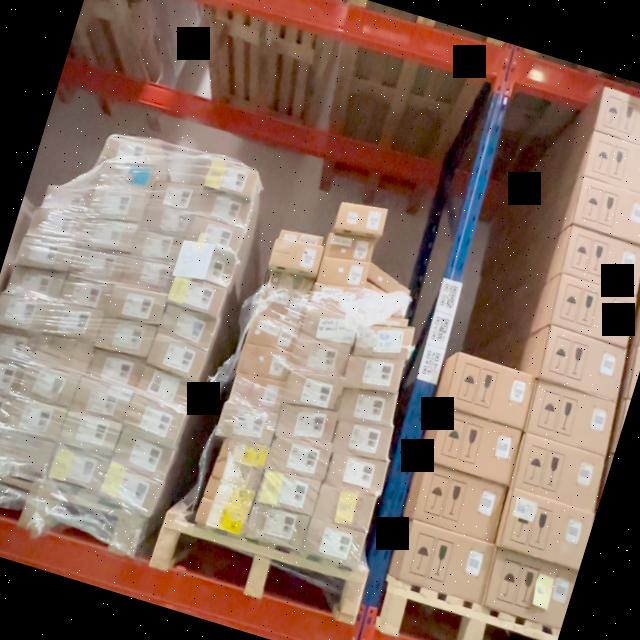box: (393, 519, 498, 603), (509, 434, 609, 514), (497, 490, 595, 570), (410, 464, 508, 542), (426, 408, 526, 484), (483, 548, 578, 626), (524, 380, 618, 456), (444, 352, 537, 428), (538, 326, 630, 400), (550, 275, 640, 346), (560, 225, 640, 295), (573, 177, 640, 246), (584, 132, 640, 197), (256, 466, 322, 518), (266, 432, 332, 484), (244, 503, 310, 553), (300, 518, 366, 568), (314, 483, 378, 534), (331, 414, 396, 464), (59, 409, 122, 460), (342, 346, 405, 397), (3, 394, 68, 443), (112, 432, 174, 483), (176, 240, 239, 290), (85, 178, 148, 228), (326, 448, 388, 498), (276, 401, 338, 451), (281, 367, 343, 417), (98, 467, 160, 517), (353, 314, 415, 364), (29, 328, 92, 377), (592, 89, 640, 153), (124, 399, 186, 448), (48, 446, 110, 495), (72, 377, 134, 425), (338, 382, 400, 430), (95, 312, 155, 361), (146, 334, 207, 382), (102, 130, 163, 178), (218, 400, 278, 448), (292, 332, 352, 380), (300, 302, 360, 350), (136, 366, 196, 414), (166, 274, 228, 320), (17, 362, 77, 409), (106, 282, 166, 328), (157, 304, 217, 350), (76, 210, 136, 256), (46, 300, 103, 347), (0, 431, 54, 480), (16, 232, 76, 276), (194, 185, 254, 229), (6, 263, 66, 306), (86, 348, 144, 392), (94, 156, 154, 198), (248, 310, 302, 356), (68, 242, 124, 286), (186, 212, 244, 254), (356, 289, 414, 331), (229, 371, 285, 414), (203, 157, 259, 200), (238, 342, 292, 386), (120, 253, 175, 296), (332, 198, 386, 240), (317, 252, 371, 294), (306, 278, 362, 318), (270, 235, 322, 278), (0, 290, 47, 336), (322, 228, 376, 268), (32, 204, 84, 244), (215, 432, 268, 470), (60, 275, 110, 315), (132, 227, 182, 266), (195, 501, 248, 537), (142, 202, 192, 240), (258, 284, 308, 322), (202, 477, 254, 513), (150, 178, 200, 215), (263, 265, 314, 301), (365, 264, 416, 300), (210, 458, 260, 493), (46, 179, 90, 214), (0, 325, 32, 366), (281, 225, 323, 250), (0, 353, 22, 398)
